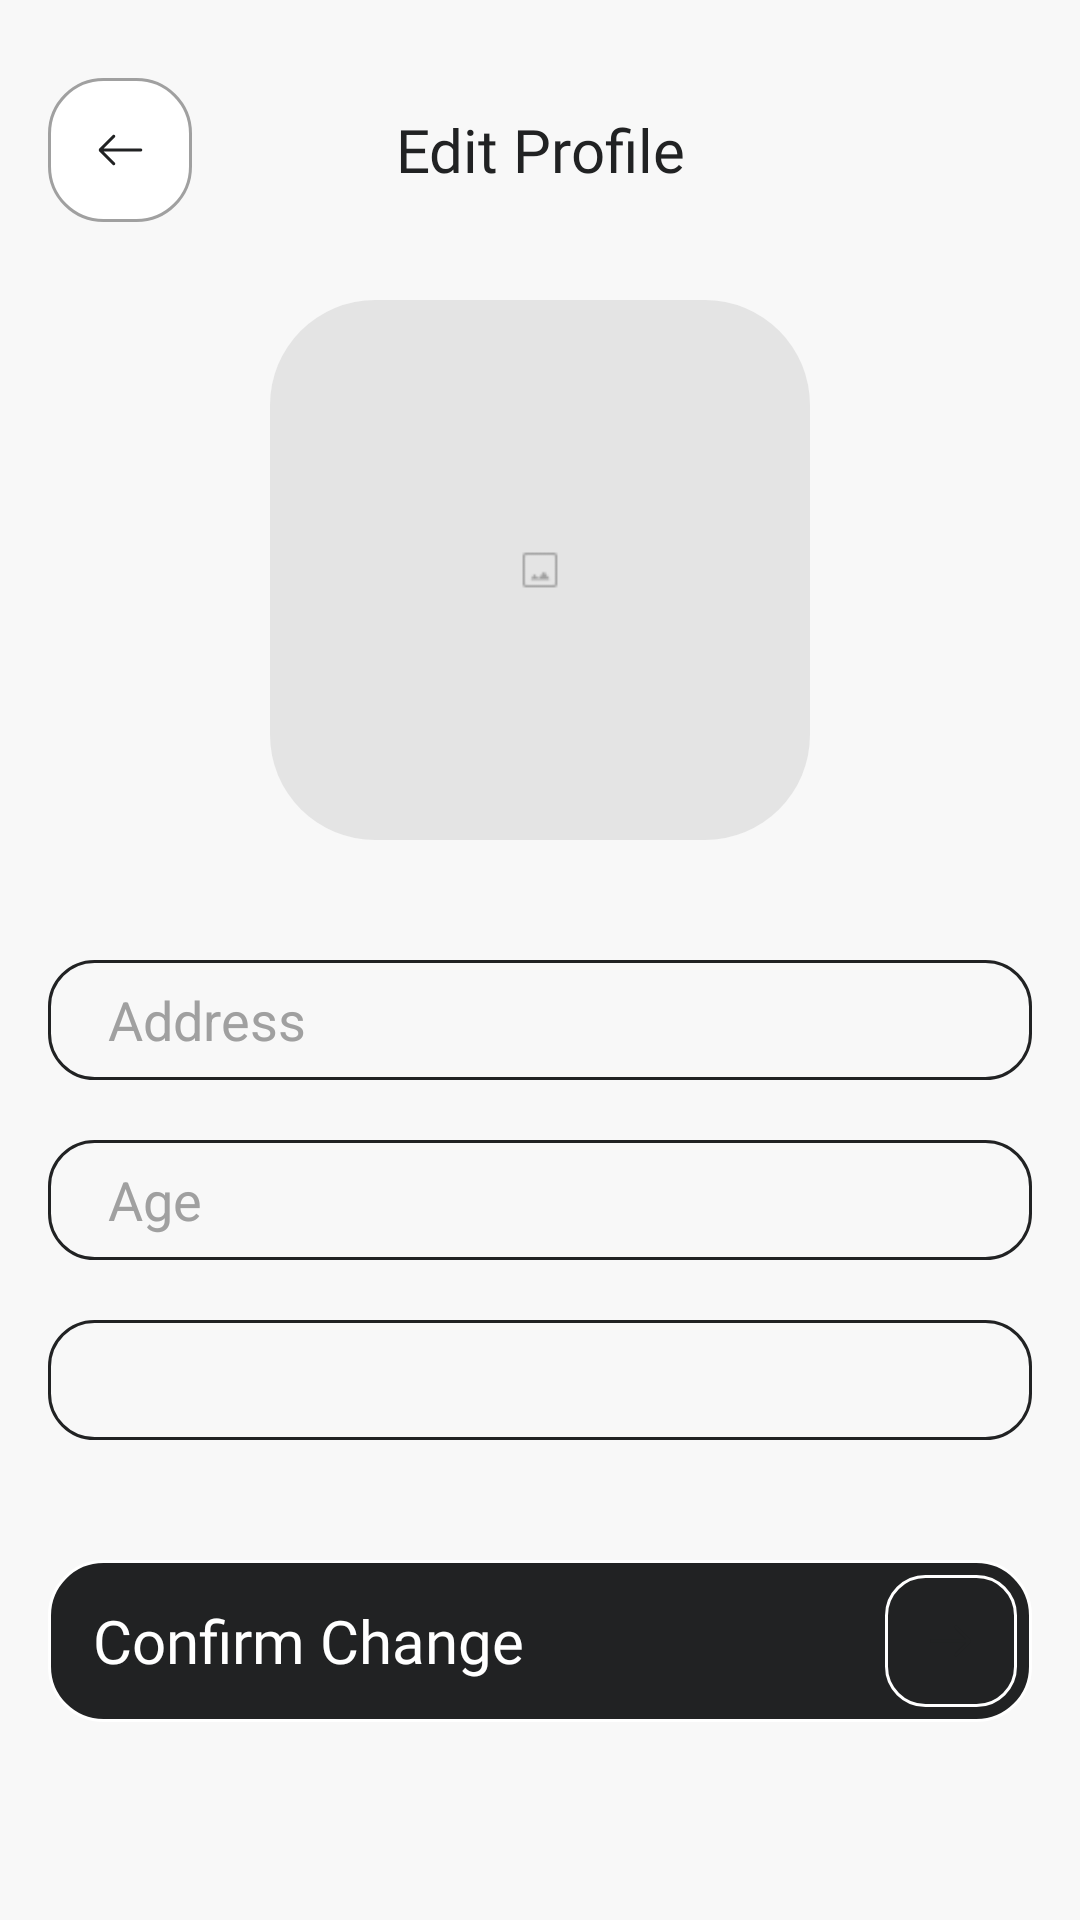

Screen size 1080px×1920px. Icon name, then its center in pixels as [x,y]:
Back Button: [120,150]
